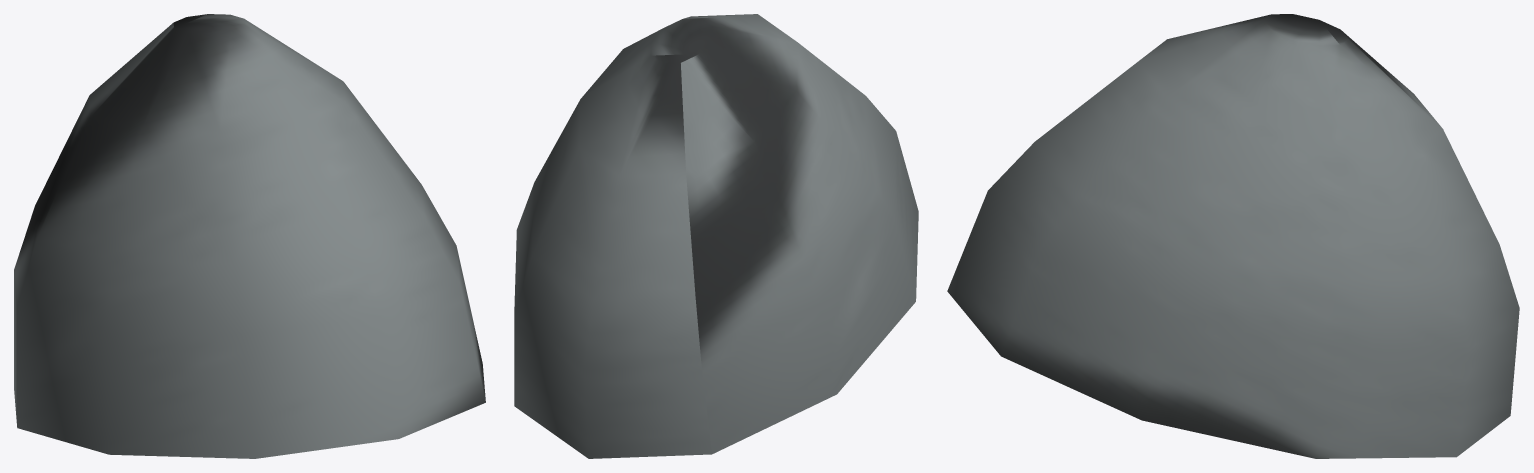
Rendered from inca_b_1.dae.
3 views of the same model, side by side, from view 1: azimuth 30°, elevation 25°; view 2: azimuth 150°, elevation 25°; view 3: azimuth 270°, elevation 25° (orthographic). The views are drawn at different scales.
Parts seen in each view (by area): view 1: inca_b_01; view 2: inca_b_01; view 3: inca_b_01.
Part boxes in pixels (x1,y1,x2,y2): inca_b_01: (14,14,485,458); inca_b_01: (514,14,918,458); inca_b_01: (947,14,1519,458).
Size of the model in its own units: 0.4255 by 0.5976 by 0.4554.
